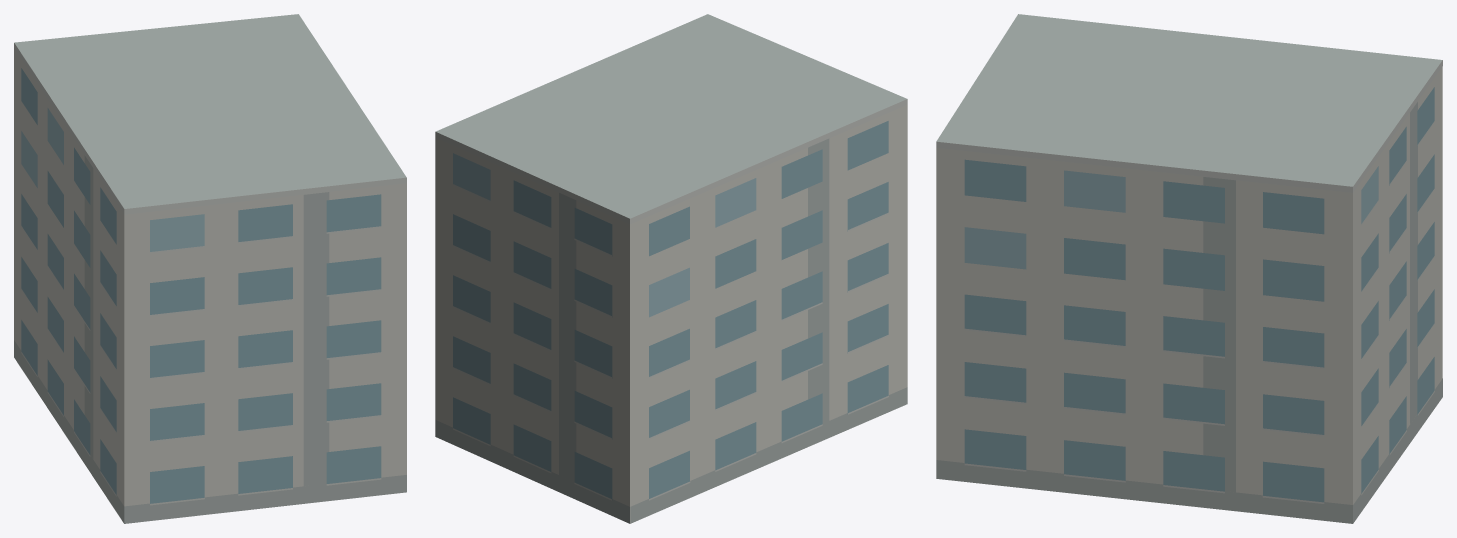
The model's file is survey-upis-32828588.glb.
The picture shows the model from 3 angles, left to right: view 1: azimuth 30°, elevation 25°; view 2: azimuth 150°, elevation 25°; view 3: azimuth 270°, elevation 25°; orthographic projection. The views are drawn at different scales.
Parts seen in each view (by area): view 1: survey-upis-32828588.tmp; view 2: survey-upis-32828588.tmp; view 3: survey-upis-32828588.tmp.
Boxes of the visible parts, left/top/right/bottom form: survey-upis-32828588.tmp: left=14, top=14, right=406, bottom=523; survey-upis-32828588.tmp: left=435, top=14, right=907, bottom=523; survey-upis-32828588.tmp: left=936, top=14, right=1442, bottom=523.
Bounding box in the file's own units: 14.52 × 13.2 × 17.99.
